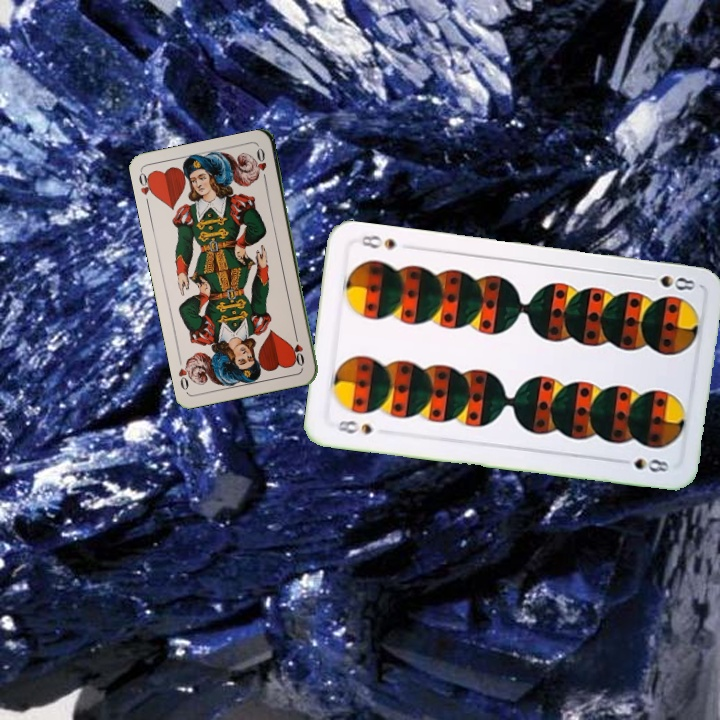HO: (135, 168, 158, 208), (290, 329, 307, 369)
S8: (639, 271, 698, 293), (328, 416, 375, 437)
